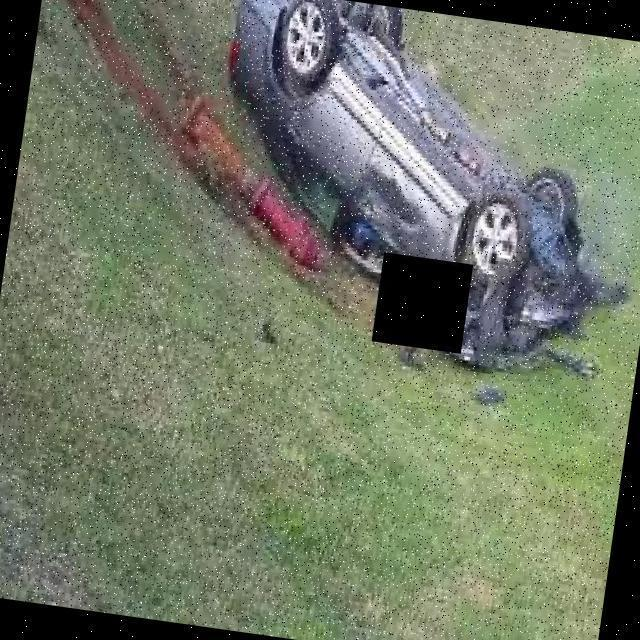accident: (191, 0, 619, 361)
